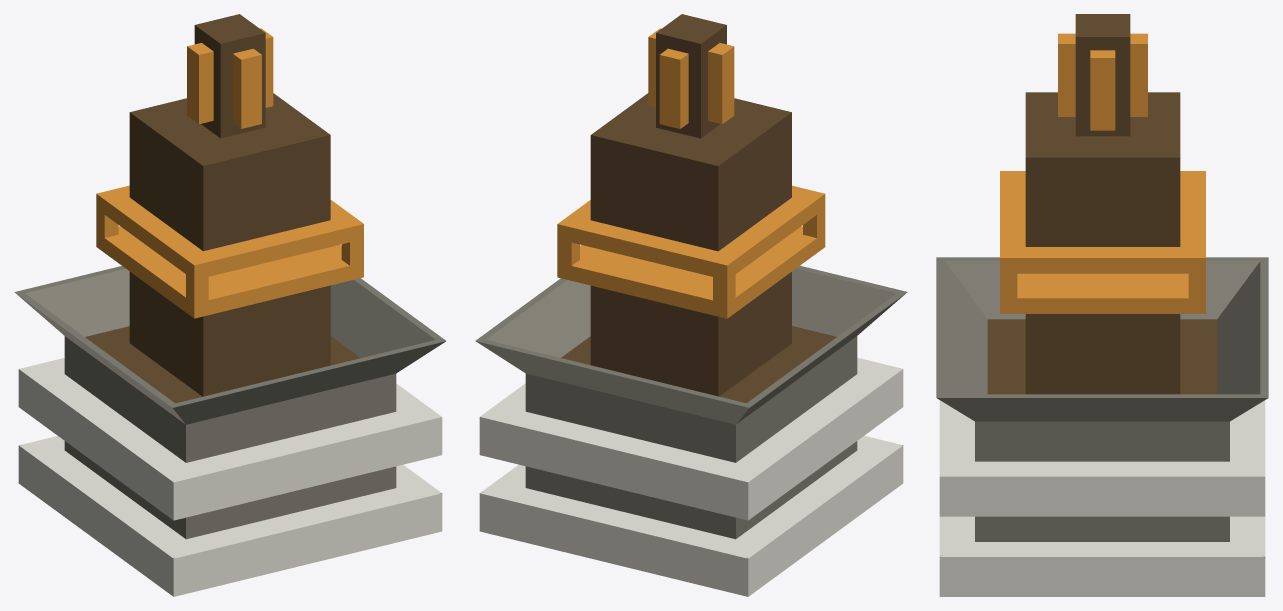
File: Aarde pion wit.fbx
3 views of the same model, side by side, from view 1: azimuth 30°, elevation 25°; view 2: azimuth 150°, elevation 25°; view 3: azimuth 270°, elevation 25° (orthographic). The views are drawn at different scales.
Parts seen in each view (by area): view 1: Vuur pion zwart; view 2: Vuur pion zwart; view 3: Vuur pion zwart.
Part boxes in pixels (x1,y1,x2,y2): Vuur pion zwart: [14, 14, 446, 596]; Vuur pion zwart: [475, 14, 907, 596]; Vuur pion zwart: [936, 14, 1268, 596].
Size of the model in its own units: 188 by 313 by 188.
